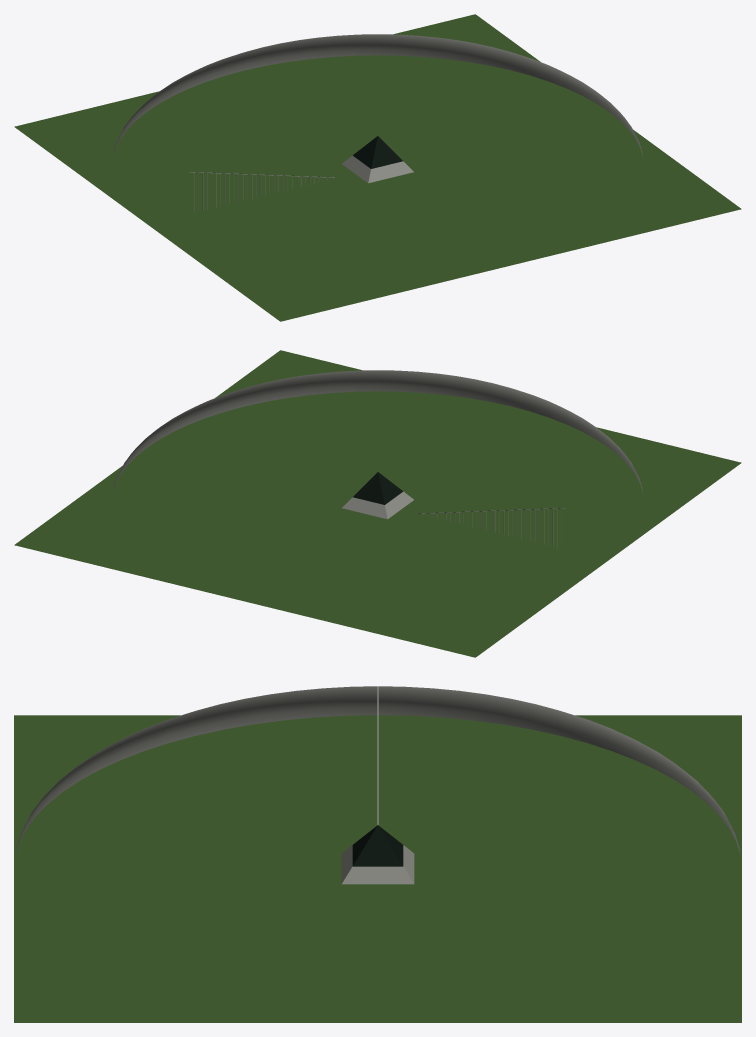
Rendered from z3-cavern.glb.
The picture shows the model from 3 angles, top to bottom: view 1: azimuth 30°, elevation 25°; view 2: azimuth 150°, elevation 25°; view 3: azimuth 270°, elevation 25°; orthographic projection. The views are drawn at different scales.
Parts seen in each view (by area): view 1: GEO_cavern_floor, COL_cavern_floor, GEO_cavern_dome, lower, upper, GEO_viaduct; view 2: GEO_cavern_floor, COL_cavern_floor, GEO_cavern_dome, lower, upper, GEO_viaduct; view 3: GEO_cavern_floor, COL_cavern_floor, GEO_cavern_dome, lower, upper.
Boxes of the visible parts, x1=… form: GEO_cavern_floor: x1=111, y1=55, x2=644, y2=280; COL_cavern_floor: x1=14, y1=14, x2=741, y2=321; GEO_cavern_dome: x1=112, y1=34, x2=643, y2=156; lower: x1=342, y1=155, x2=413, y2=183; upper: x1=353, y1=136, x2=402, y2=168; GEO_viaduct: x1=190, y1=172, x2=332, y2=212; GEO_cavern_floor: x1=111, y1=391, x2=644, y2=616; COL_cavern_floor: x1=14, y1=350, x2=741, y2=657; GEO_cavern_dome: x1=112, y1=370, x2=643, y2=492; lower: x1=342, y1=491, x2=413, y2=519; upper: x1=353, y1=472, x2=402, y2=504; GEO_viaduct: x1=423, y1=508, x2=565, y2=548; GEO_cavern_floor: x1=14, y1=715, x2=741, y2=1022; COL_cavern_floor: x1=14, y1=715, x2=741, y2=1022; GEO_cavern_dome: x1=15, y1=686, x2=740, y2=853; lower: x1=341, y1=845, x2=414, y2=884; upper: x1=352, y1=825, x2=403, y2=866.
Size of the model in its own units: 6000 by 902 by 6000.
